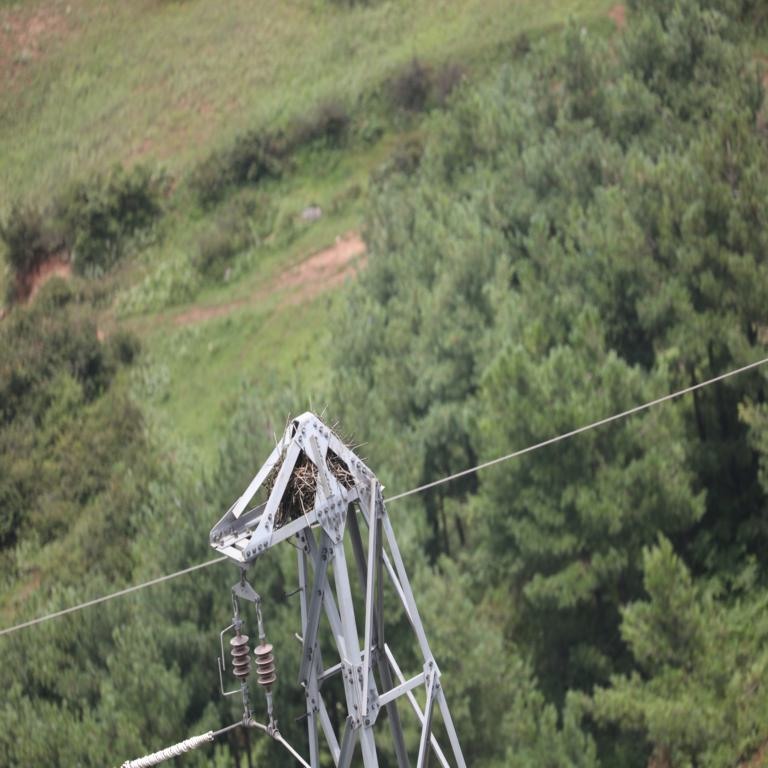nest: (266, 440, 357, 521)
